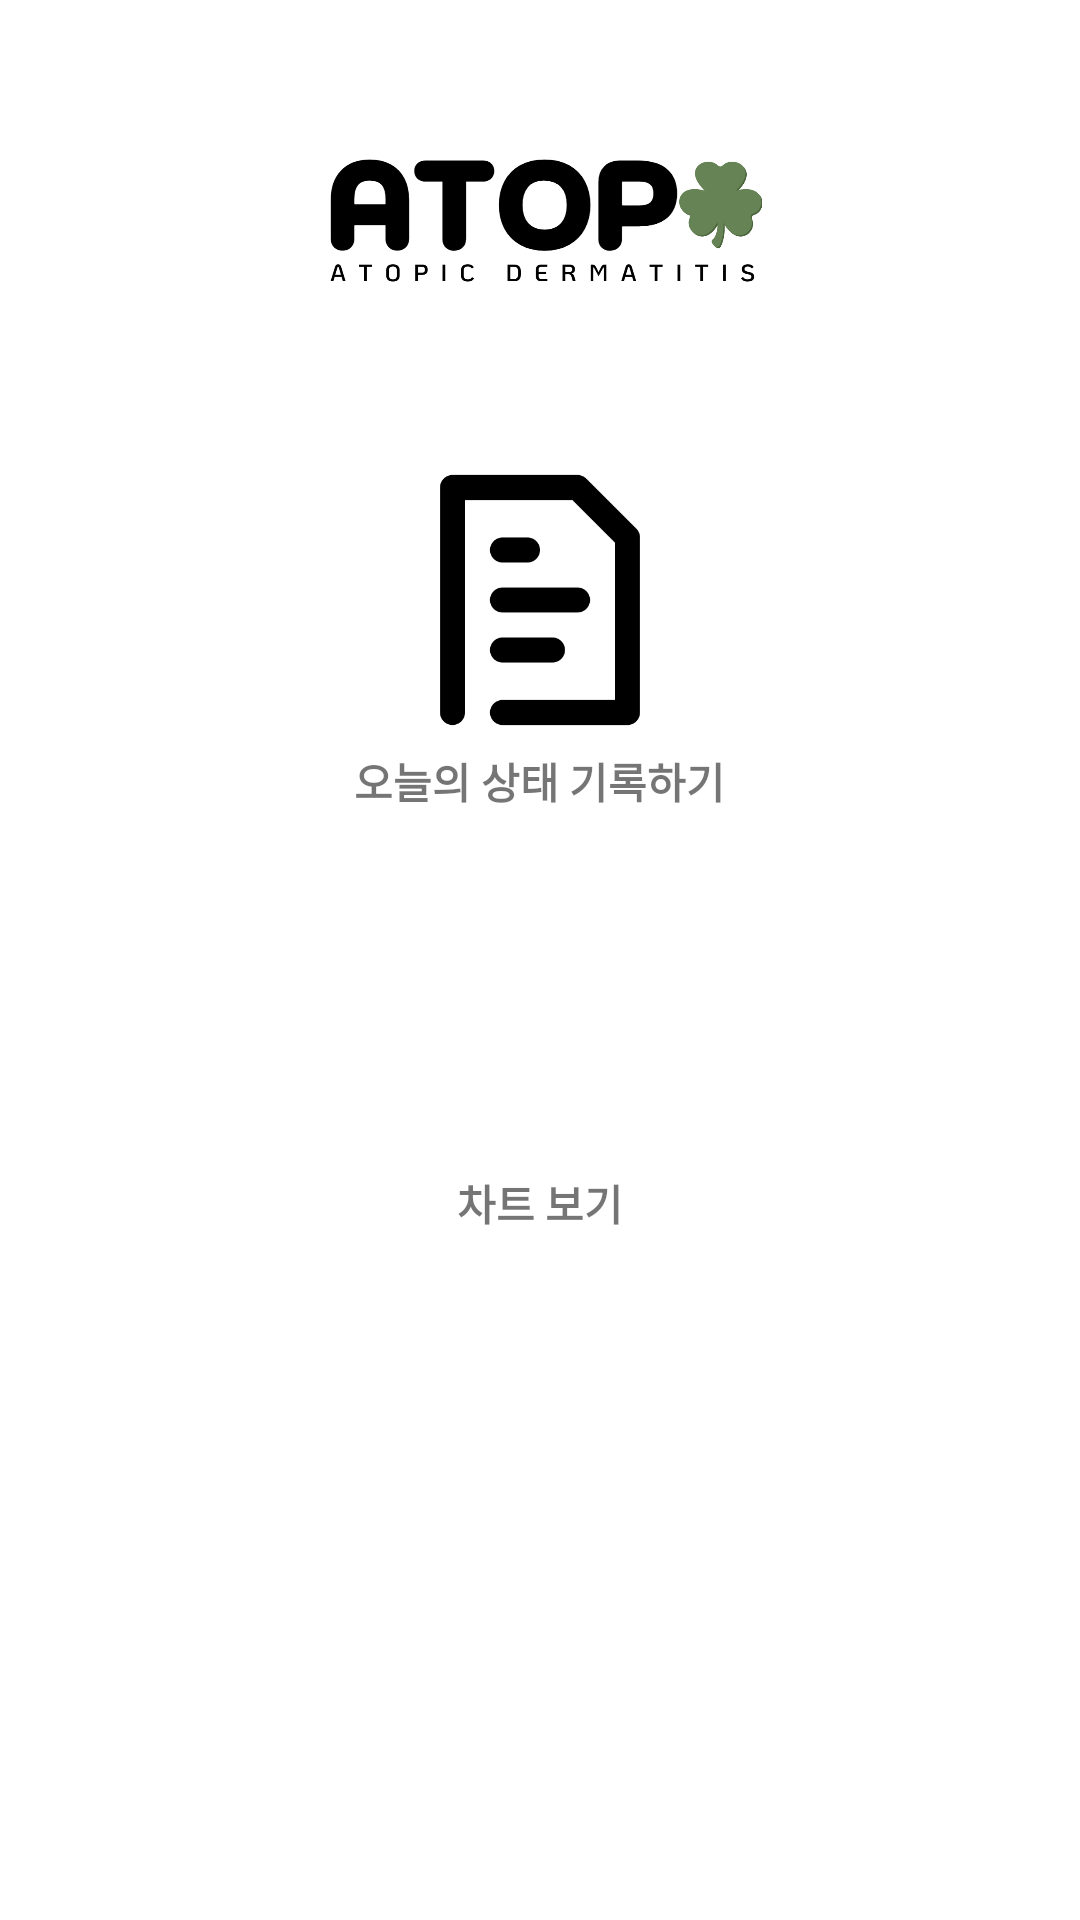

Point at icon controls on the screen. Image size 1080w x 1920h, points as [x,y].
text: [540,600]
